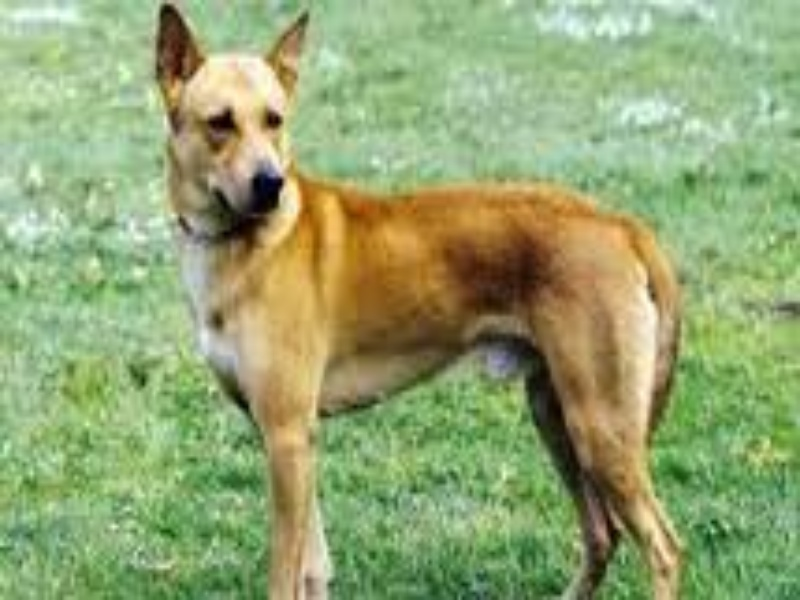dog: (129, 4, 711, 595)
